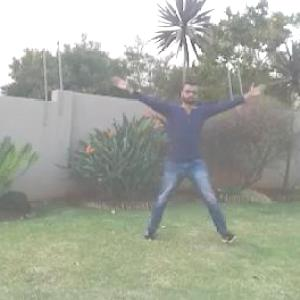takeoff: (109, 74, 263, 250)
